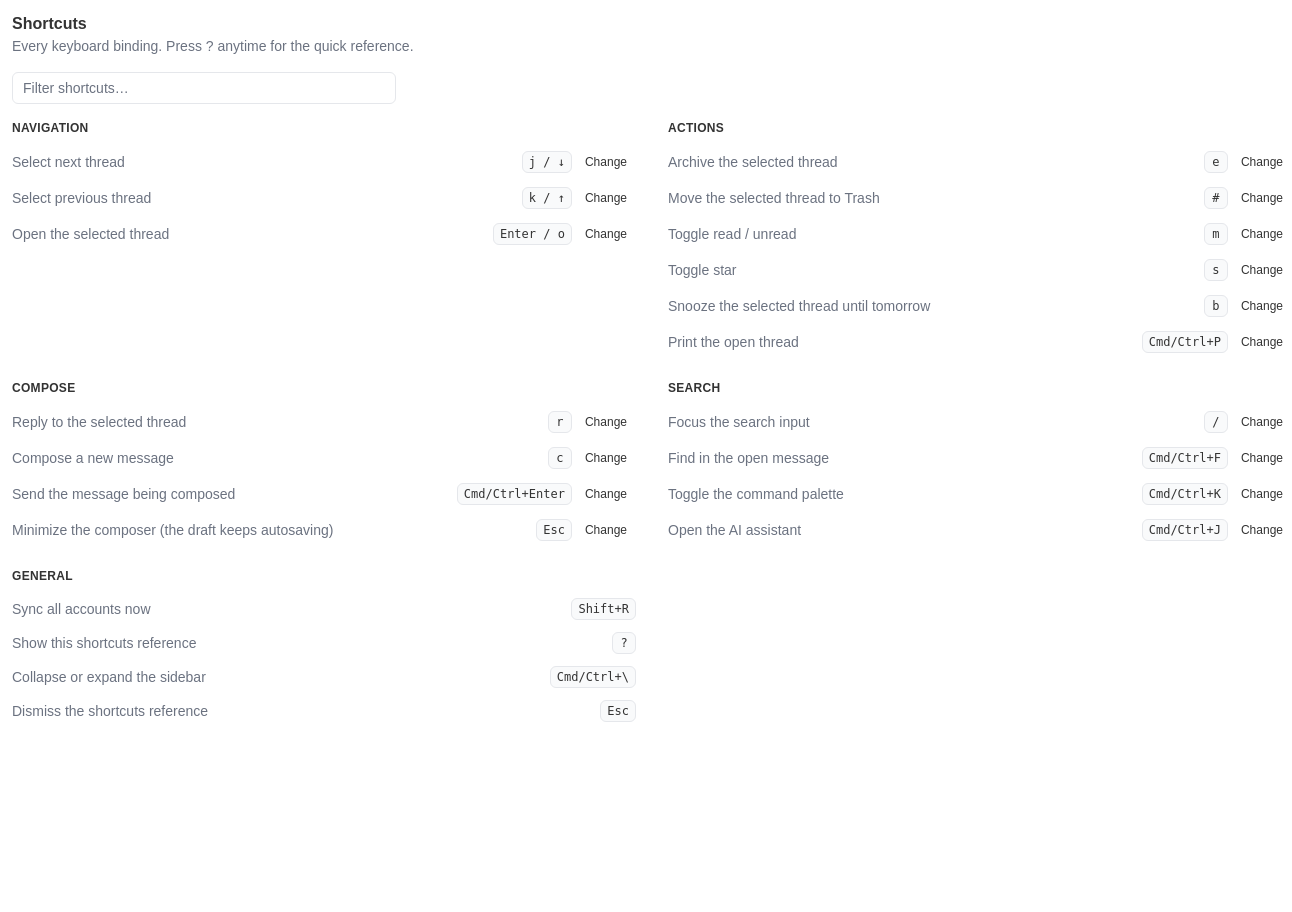
Test: ShortcutsSection — rebinding (spec: rebind archive) › Escape cancels a capture without saving
Click the button with test id "rebind-archive" at x=1262, y=162, box x1=1232 y1=150 x2=1291 y2=174
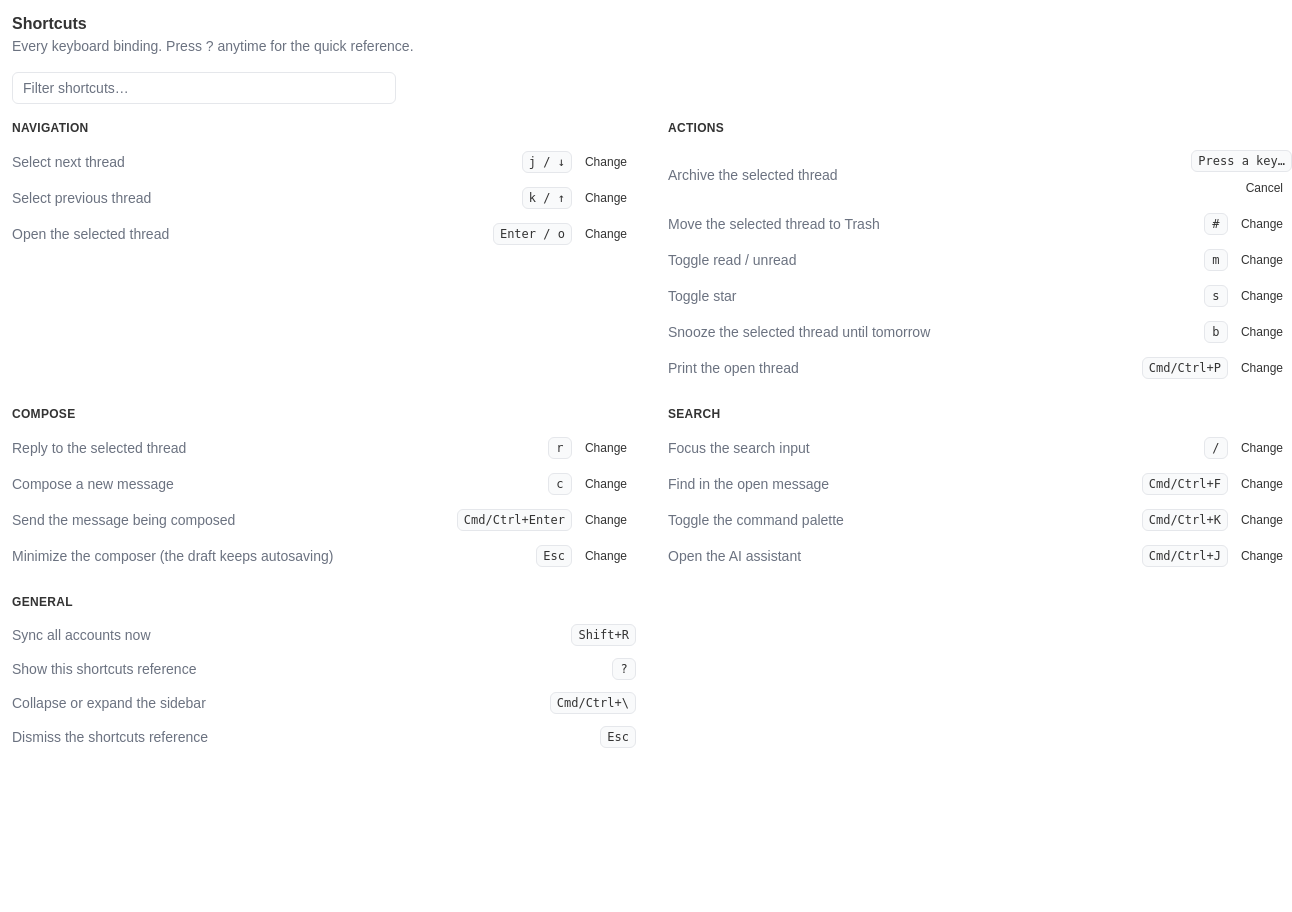
Press Escape
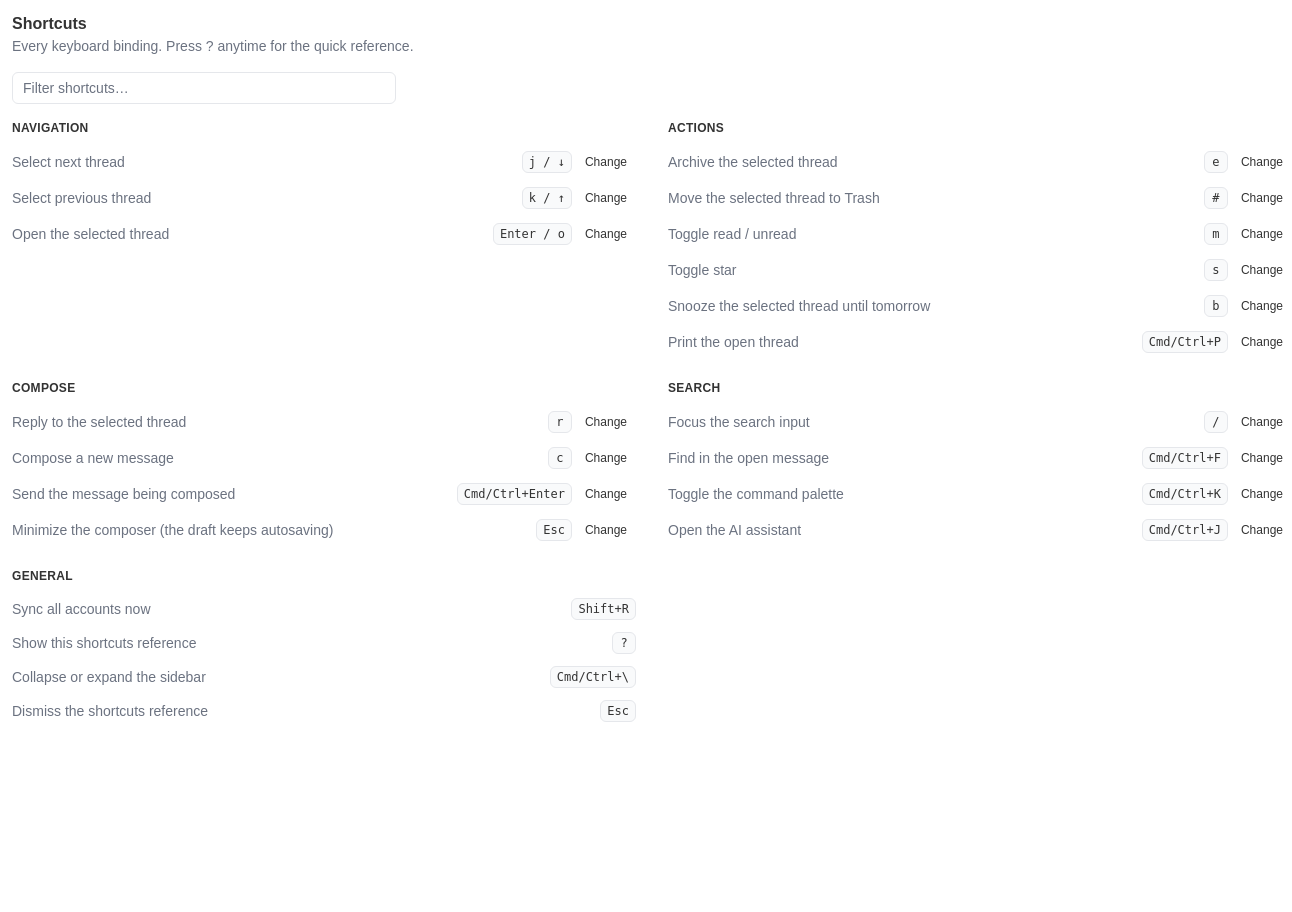
Result: the text with test id "shortcut-keys-archive" reads "e" at x1=1212 y1=155 x2=1220 y2=169
